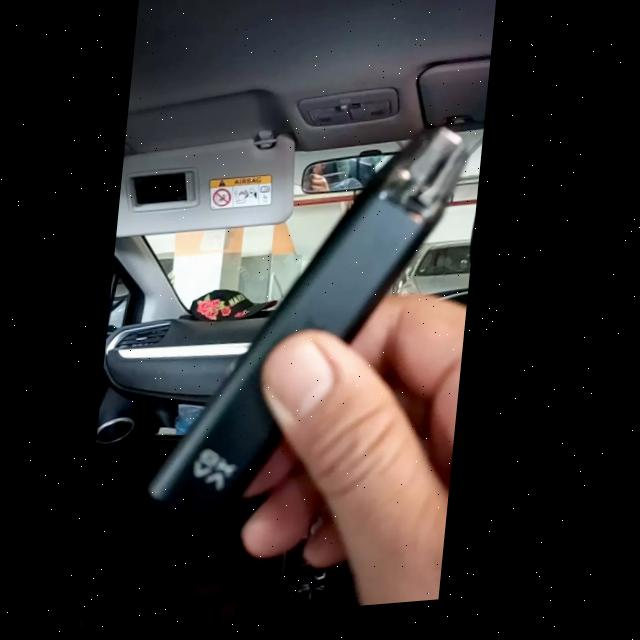vape: (159, 129, 479, 535)
